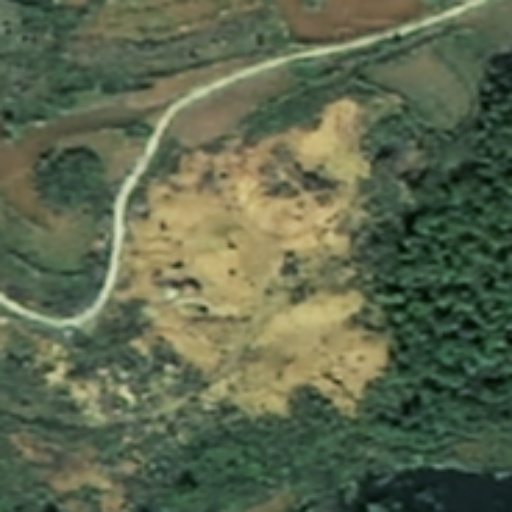landslide: (136, 99, 373, 401)
